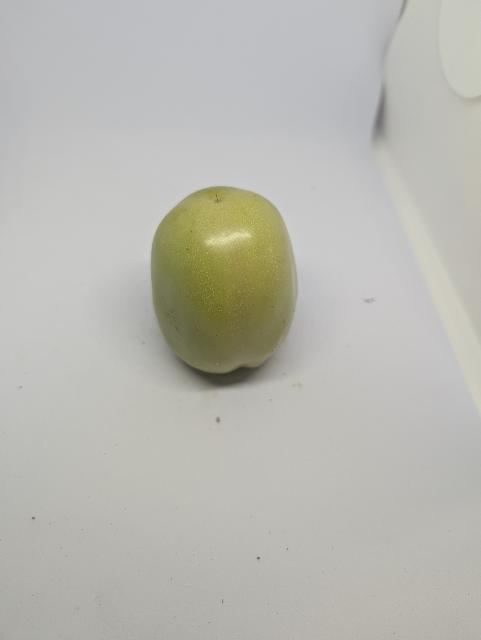green: (150, 184, 302, 376)
